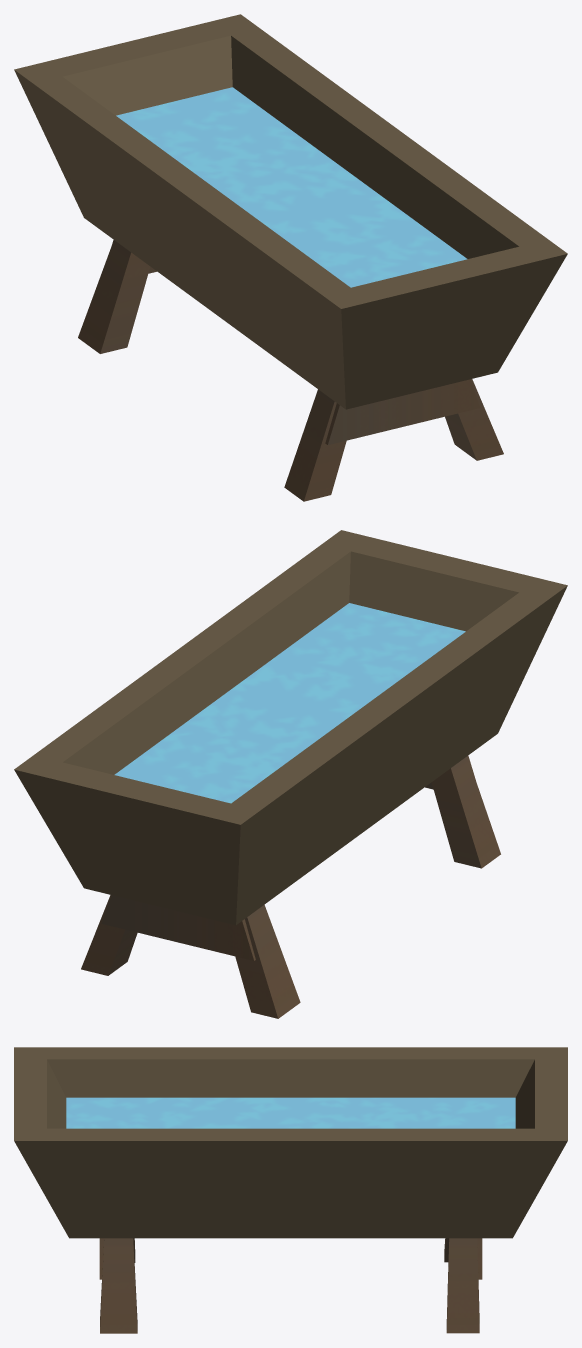
The model's file is Trough_2_LOD1.fbx.
The picture shows the model from 3 angles, top to bottom: view 1: azimuth 30°, elevation 25°; view 2: azimuth 150°, elevation 25°; view 3: azimuth 270°, elevation 25°; orthographic projection. The views are drawn at different scales.
Visible parts, largest first — view 1: polySurface9731; view 2: polySurface9731; view 3: polySurface9731.
Part boxes in pixels (x1,y1,x2,y2): polySurface9731: [14, 14, 567, 501]; polySurface9731: [14, 530, 567, 1018]; polySurface9731: [14, 1047, 567, 1333].
Size of the model in its own units: 104 by 102 by 259.
